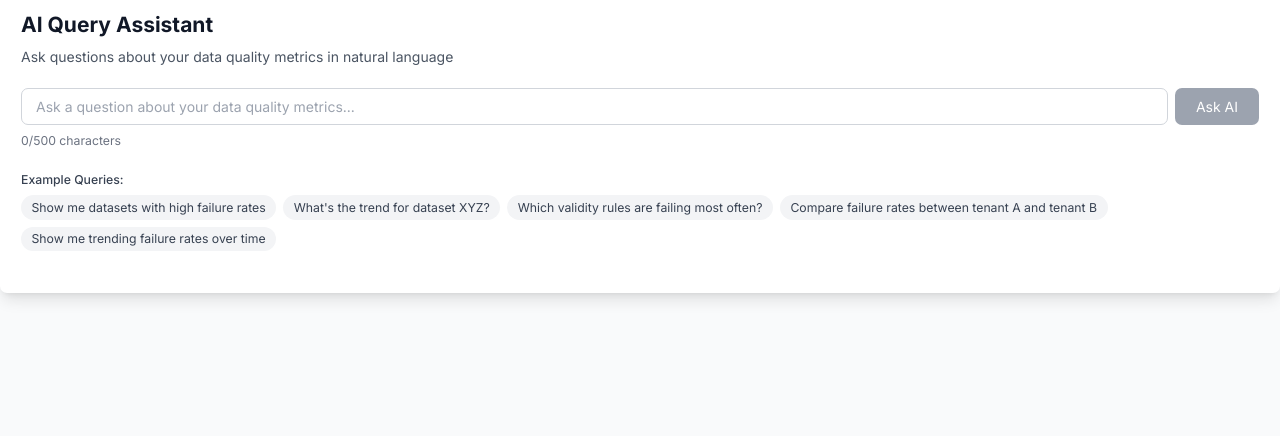
Test: AIQuerySection › shows loading state during query processing
In the field with placeholder "Ask a question about your data quality metrics...": (594, 106) [21,88,1168,125], type "Show me datasets"
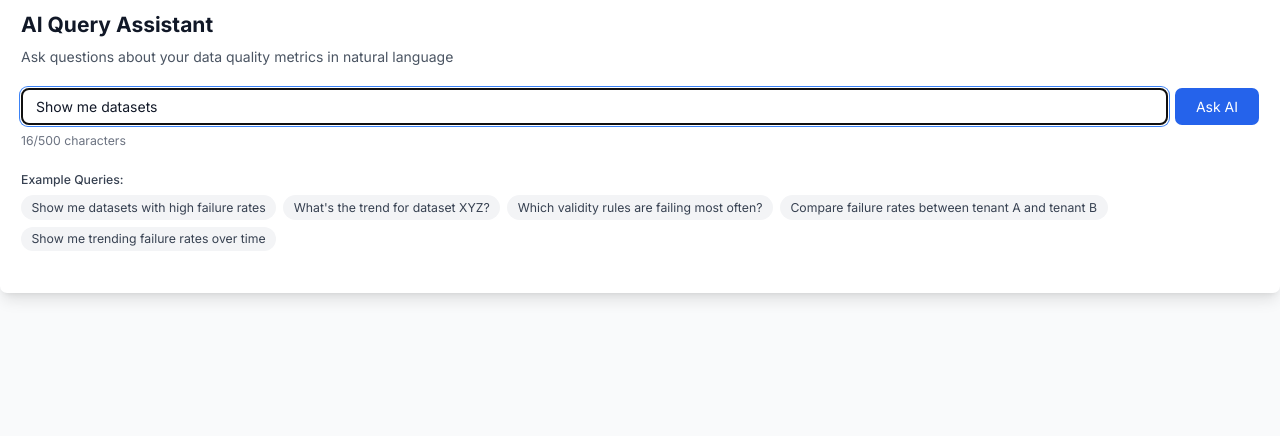
Click the button "Ask AI": (1217, 106) [1175,88,1259,125]
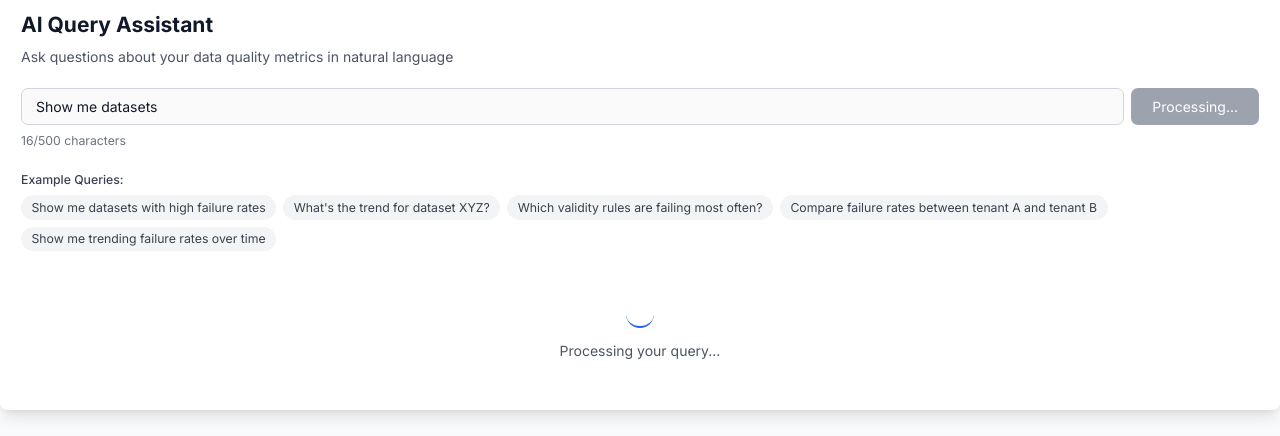
Now the text "Processing your query..." is shown, box [560,342,720,359]
